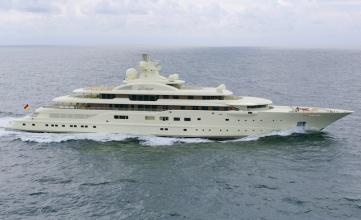yacht: (6, 61, 354, 135)
